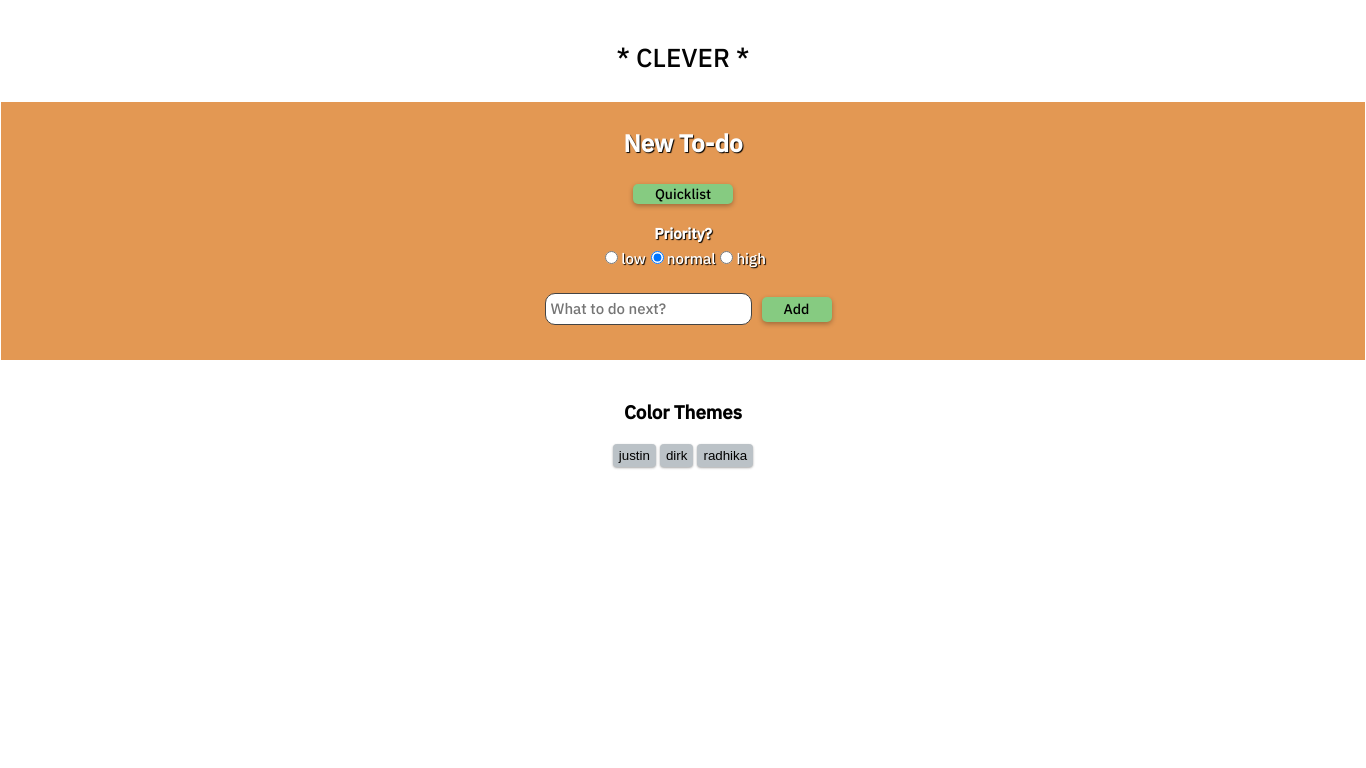
Test: App › create new todo
Type "new Todo" into the field with placeholder "What to do next?" at (648, 309), box [544,293,752,325]
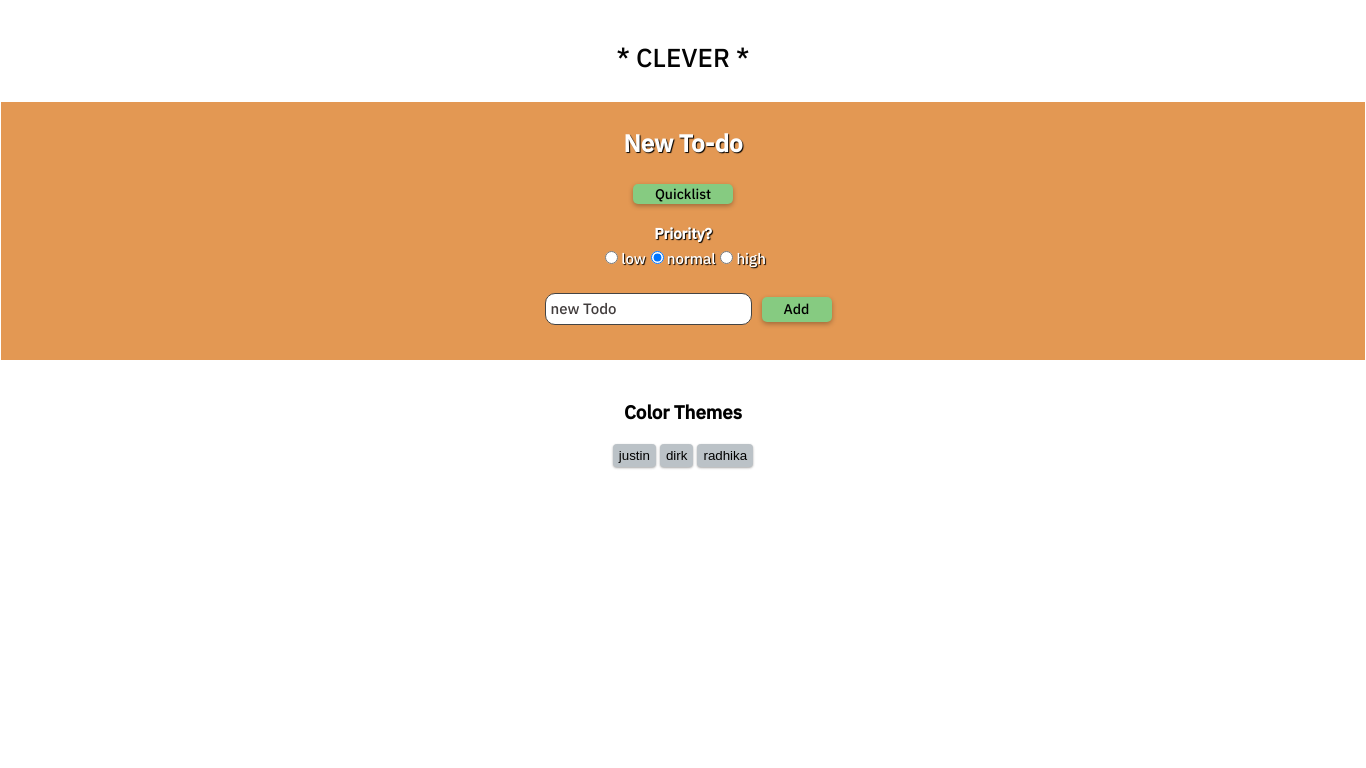
Click the button "Add" at (796, 309), box [762,297,832,322]
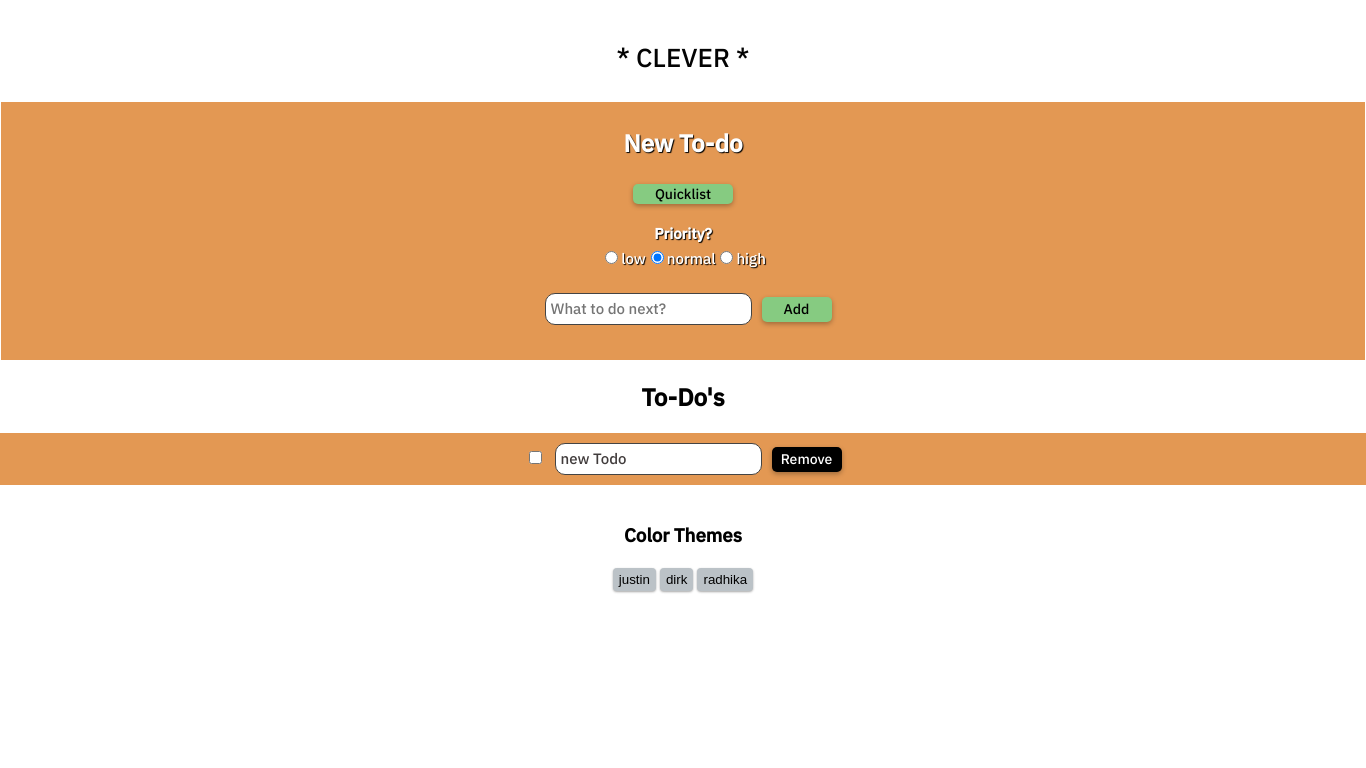
Expected: the list item "Remove" is shown, [0,433,1365,485]
